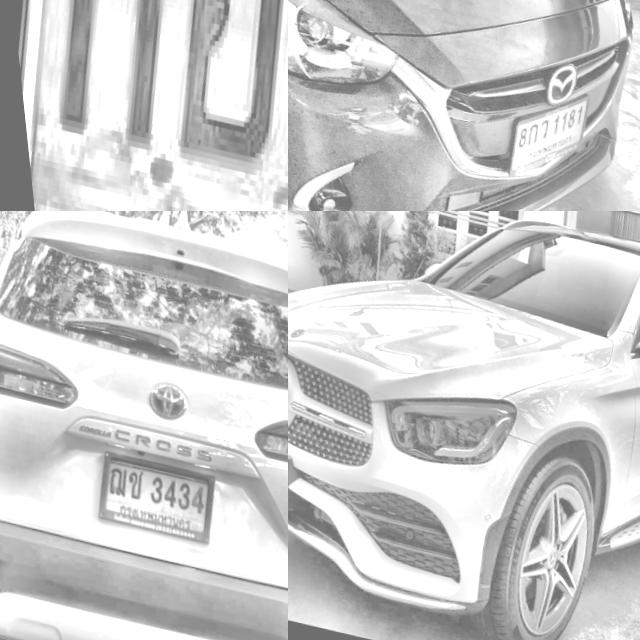license-plate: (0, 0, 288, 211), (488, 69, 596, 196), (81, 441, 212, 543)
